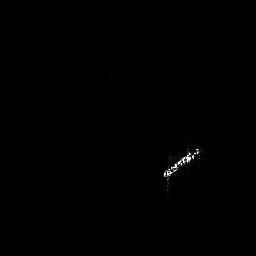ship: (161, 143, 203, 194)
